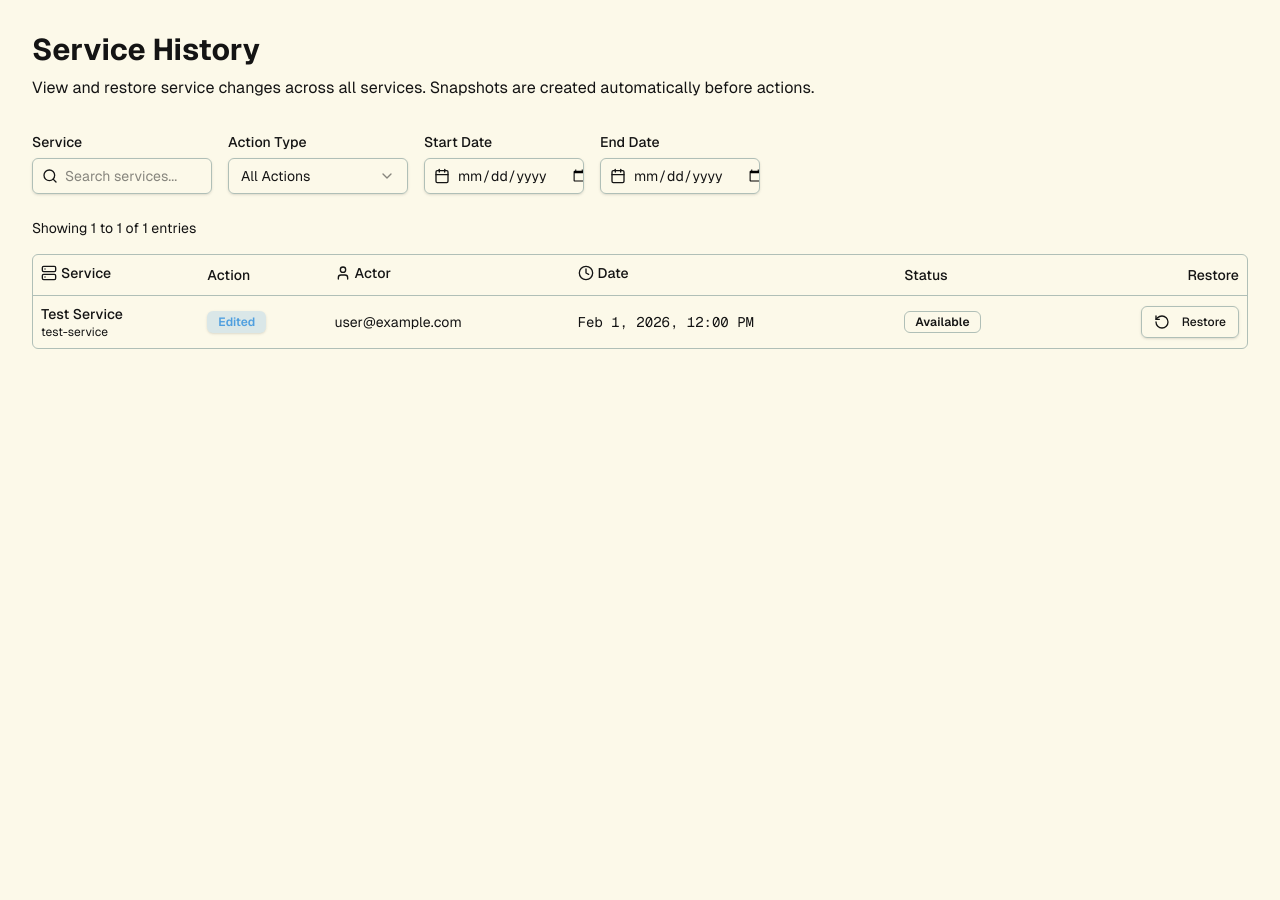
Test: History Page › restore functionality › closes dialog when Cancel is clicked
The width and height of the screenshot is (1280, 900).
# Open dialog
Click the button "Restore" at (1190, 322), box x1=1141 y1=306 x2=1239 y2=338
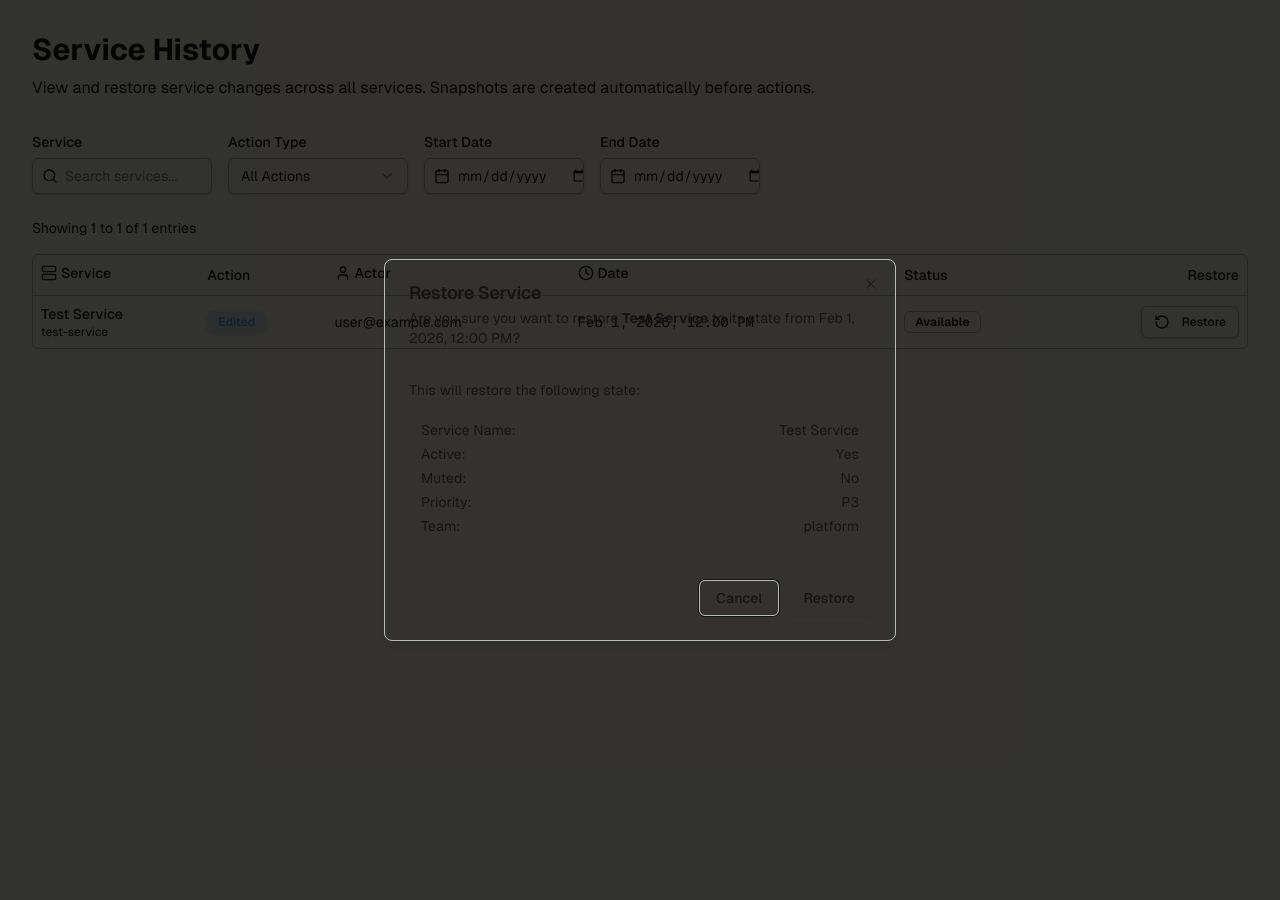
Now the dialog is shown, box x1=384 y1=259 x2=896 y2=641
# Close dialog
Click the button "Cancel" at (739, 598), box x1=699 y1=580 x2=779 y2=616
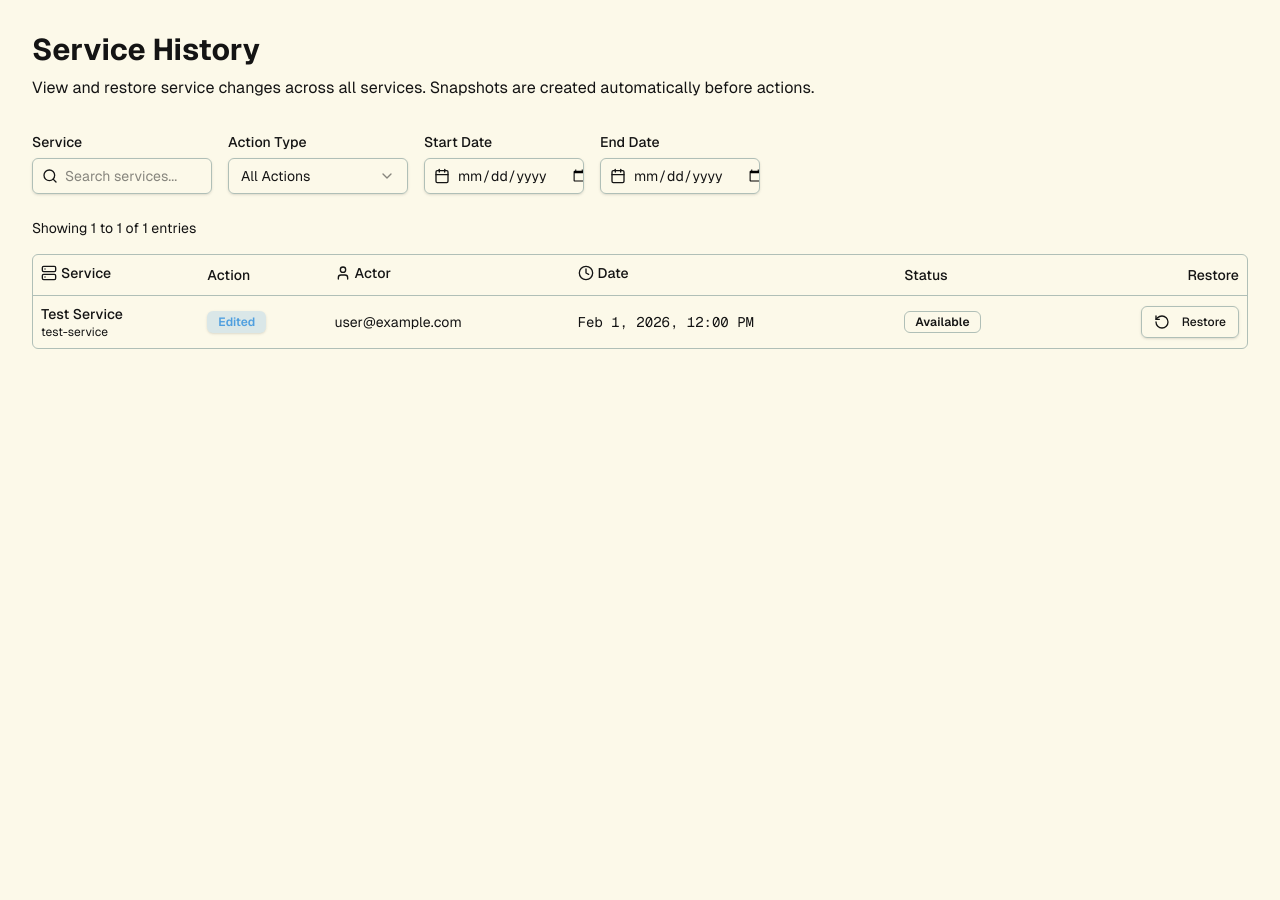
Now the dialog is gone
